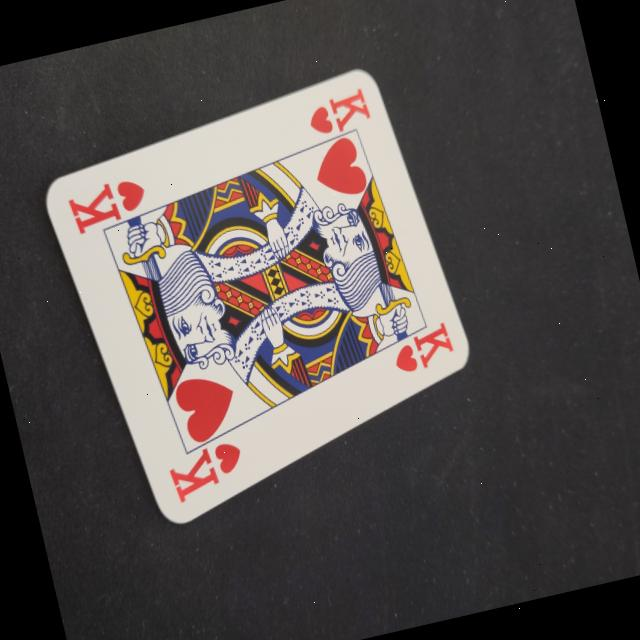Kh: (48, 153, 164, 255), (151, 422, 260, 519), (292, 76, 382, 160), (373, 316, 463, 386)
